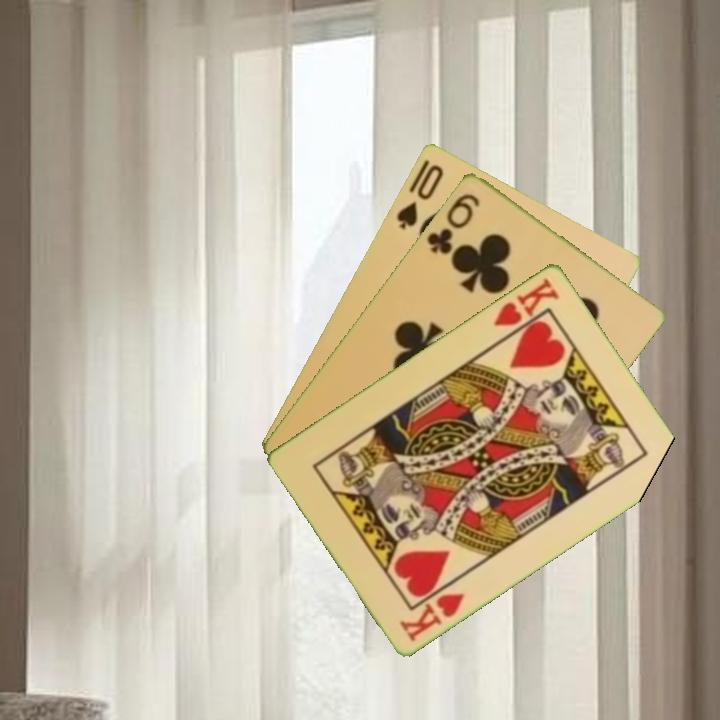10s: (393, 160, 447, 232)
6c: (423, 189, 483, 257)
Kh: (490, 273, 562, 342), (396, 588, 468, 644)
